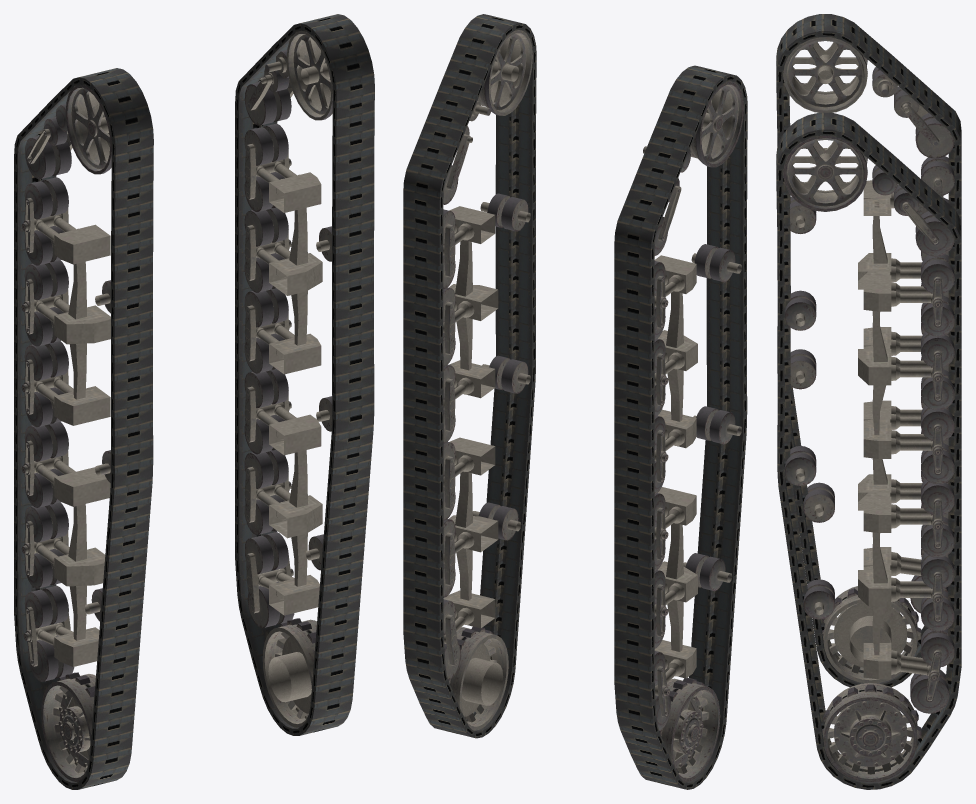
The model's file is Chassis.glb.
3 views of the same model, side by side, from view 1: azimuth 30°, elevation 25°; view 2: azimuth 150°, elevation 25°; view 3: azimuth 270°, elevation 25° (orthographic). The views are drawn at different scales.
Visible parts, largest first — view 1: set_3_group_0, set_1_group_0, set_5_group_0, set_0_group_0, set_4_group_0, set_2_group_0; view 2: set_1_group_0, set_0_group_0, set_5_group_0, set_3_group_0, set_4_group_0, set_2_group_0; view 3: set_5_group_0, set_3_group_0, set_0_group_0, set_1_group_0, set_4_group_0, set_2_group_0.
Boxes of the visible parts, box(x1,y1,x2,y2) form: set_3_group_0: box(21, 84, 111, 781); set_1_group_0: box(14, 68, 153, 789); set_5_group_0: box(244, 30, 332, 727); set_0_group_0: box(235, 14, 374, 735); set_4_group_0: box(244, 88, 293, 522); set_2_group_0: box(24, 142, 72, 576); set_1_group_0: box(614, 65, 747, 789); set_0_group_0: box(403, 14, 536, 738); set_5_group_0: box(443, 30, 532, 730); set_3_group_0: box(643, 81, 743, 782); set_4_group_0: box(444, 160, 462, 585); set_2_group_0: box(656, 211, 673, 637); set_5_group_0: box(783, 135, 954, 782); set_3_group_0: box(783, 37, 954, 683); set_0_group_0: box(776, 112, 961, 789); set_1_group_0: box(776, 14, 961, 687); set_4_group_0: box(917, 207, 943, 622); set_2_group_0: box(917, 108, 942, 197).
Size of the model in its own units: 2.68 by 6.89 by 1.76.
6 materials, 6 textured.
